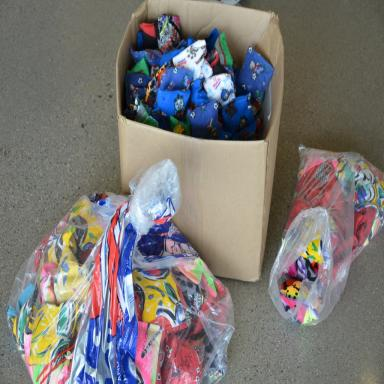plasticbag: (5, 159, 235, 383), (268, 142, 384, 328)
